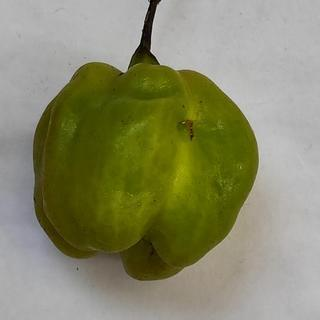Defect: (172, 111, 205, 148)
